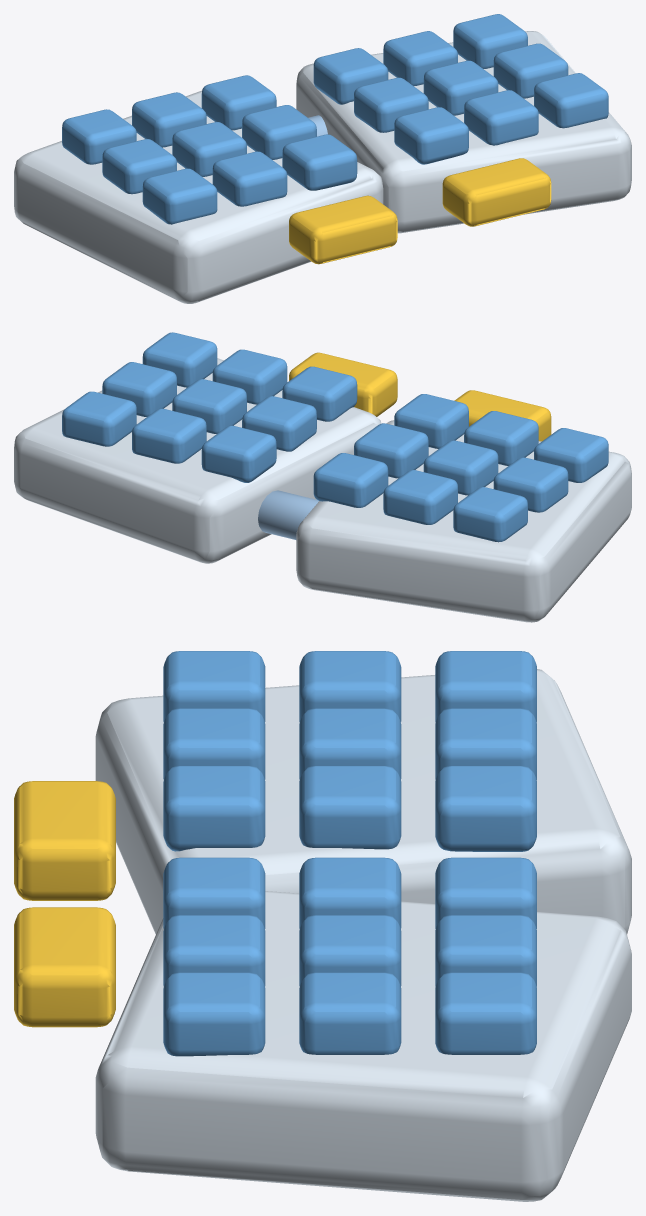
File: pcv_split_keyboard_keybed.glb
The picture shows the model from 3 angles, top to bottom: view 1: azimuth 30°, elevation 25°; view 2: azimuth 150°, elevation 25°; view 3: azimuth 270°, elevation 25°; orthographic projection. The views are drawn at different scales.
Visible parts, largest first — view 1: pcv_split_keyboard_keybed_MOBILE_JOINED; view 2: pcv_split_keyboard_keybed_MOBILE_JOINED; view 3: pcv_split_keyboard_keybed_MOBILE_JOINED.
Part boxes in pixels (<box>): pcv_split_keyboard_keybed_MOBILE_JOINED: <box>14,14,631,303</box>; pcv_split_keyboard_keybed_MOBILE_JOINED: <box>14,332,631,622</box>; pcv_split_keyboard_keybed_MOBILE_JOINED: <box>14,651,631,1201</box>.
Size of the model in its own units: 1.53 by 0.275 by 0.9097.
